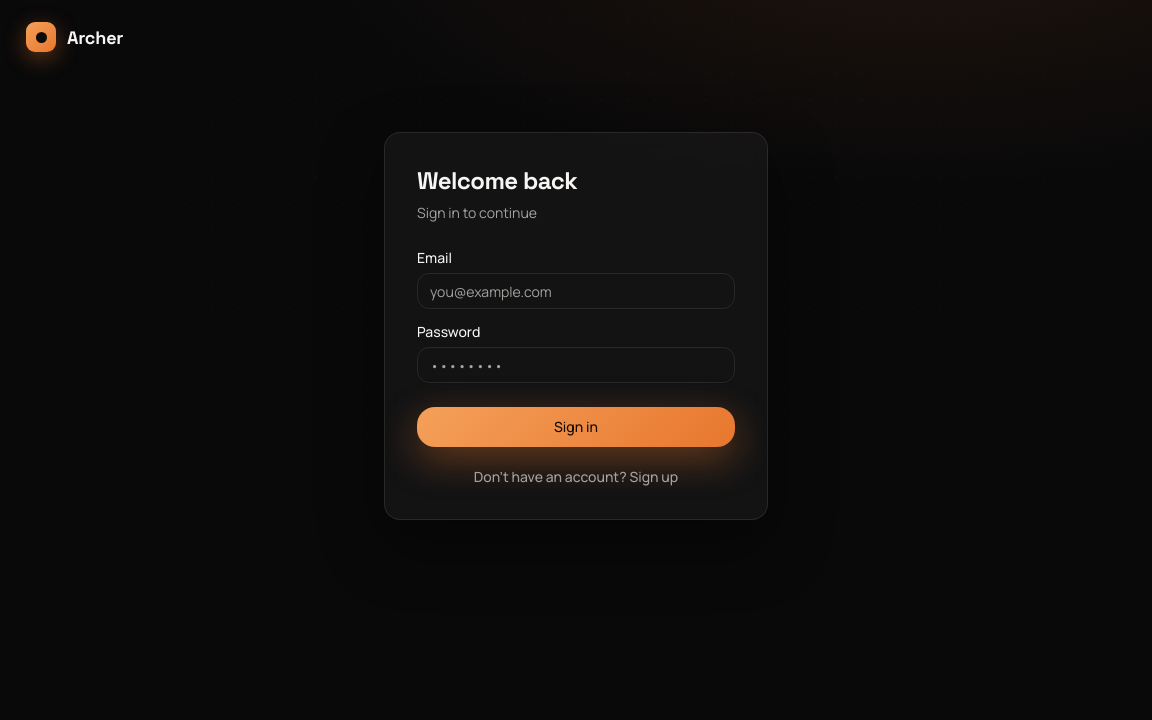
Scenario: Auth — sign up / sign in / resume › surfaces the GoTrue error on bad credentials
Type "candidate@example.com" into the field labelled "Email" at x=576, y=291, box top-left (417, 273), bottom-right (735, 309)
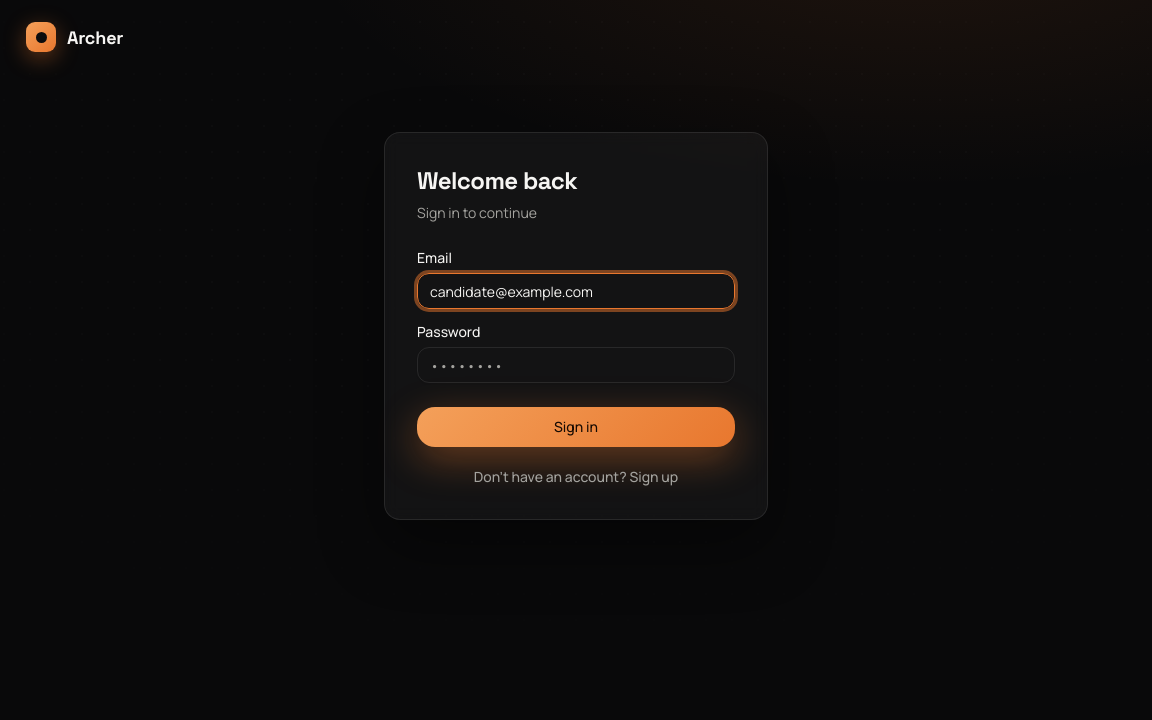
Type "wrong-password" into the password field labelled "Password" at x=576, y=365, box top-left (417, 347), bottom-right (735, 383)
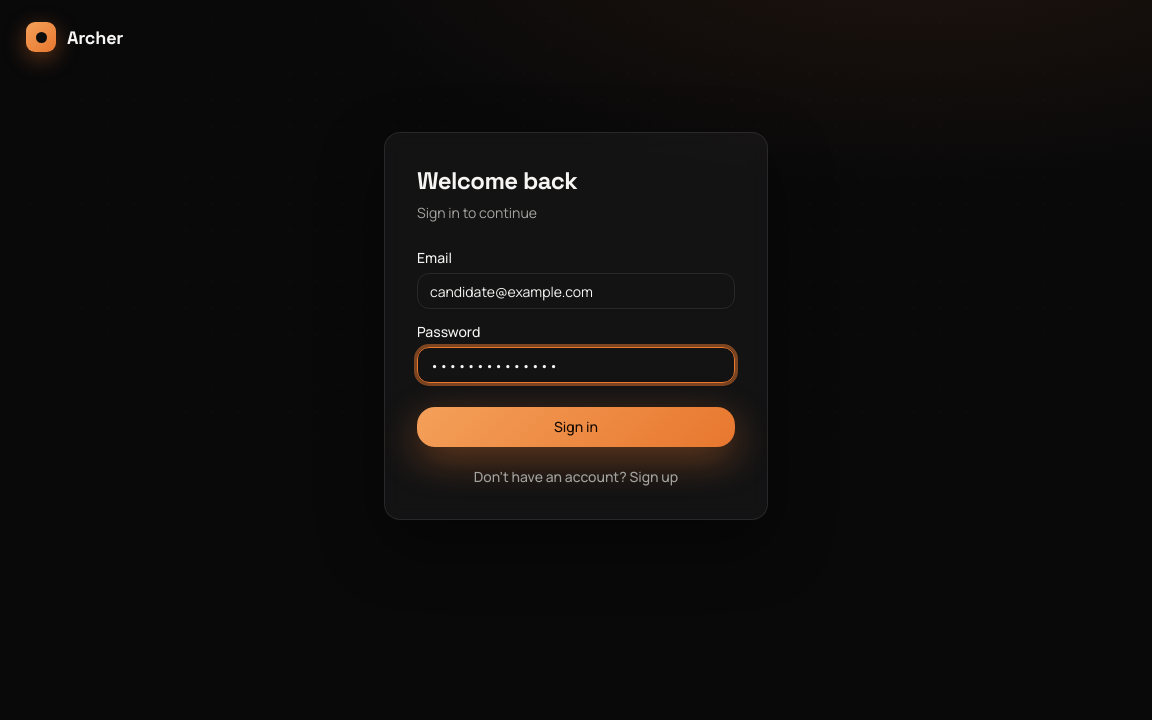
Click the submit button at x=576, y=427, box top-left (417, 407), bottom-right (735, 447)
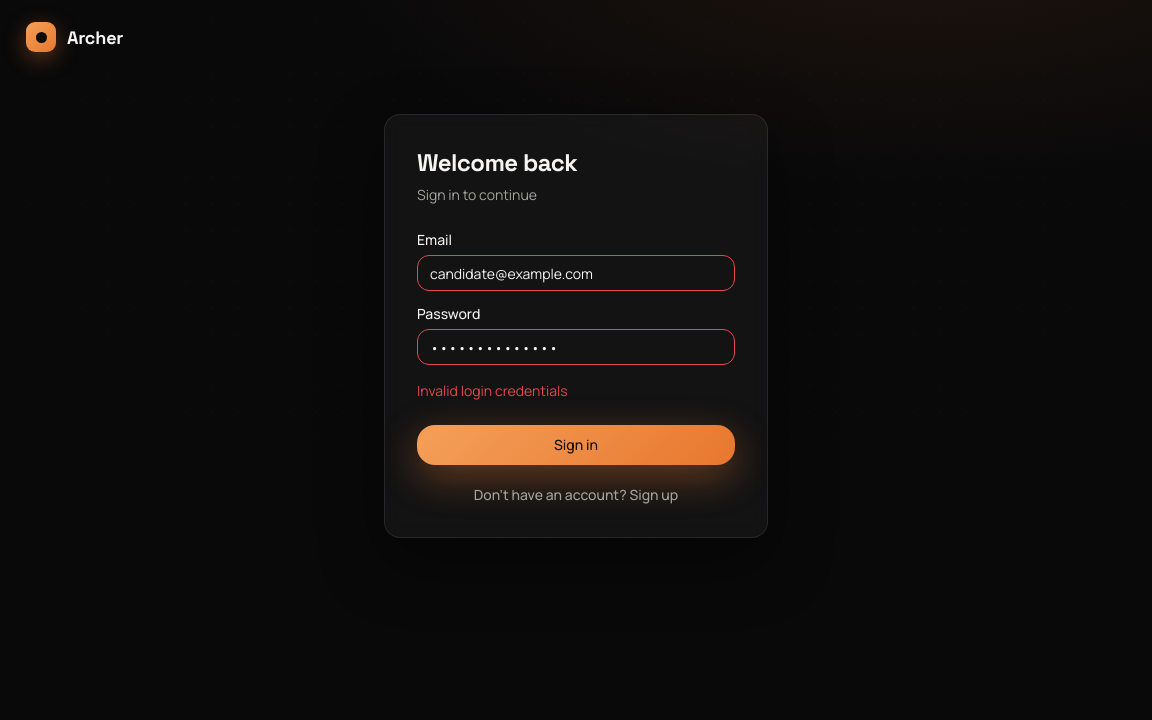
Expected: the text "Invalid login credentials" is shown, top-left (417, 381), bottom-right (568, 400)
